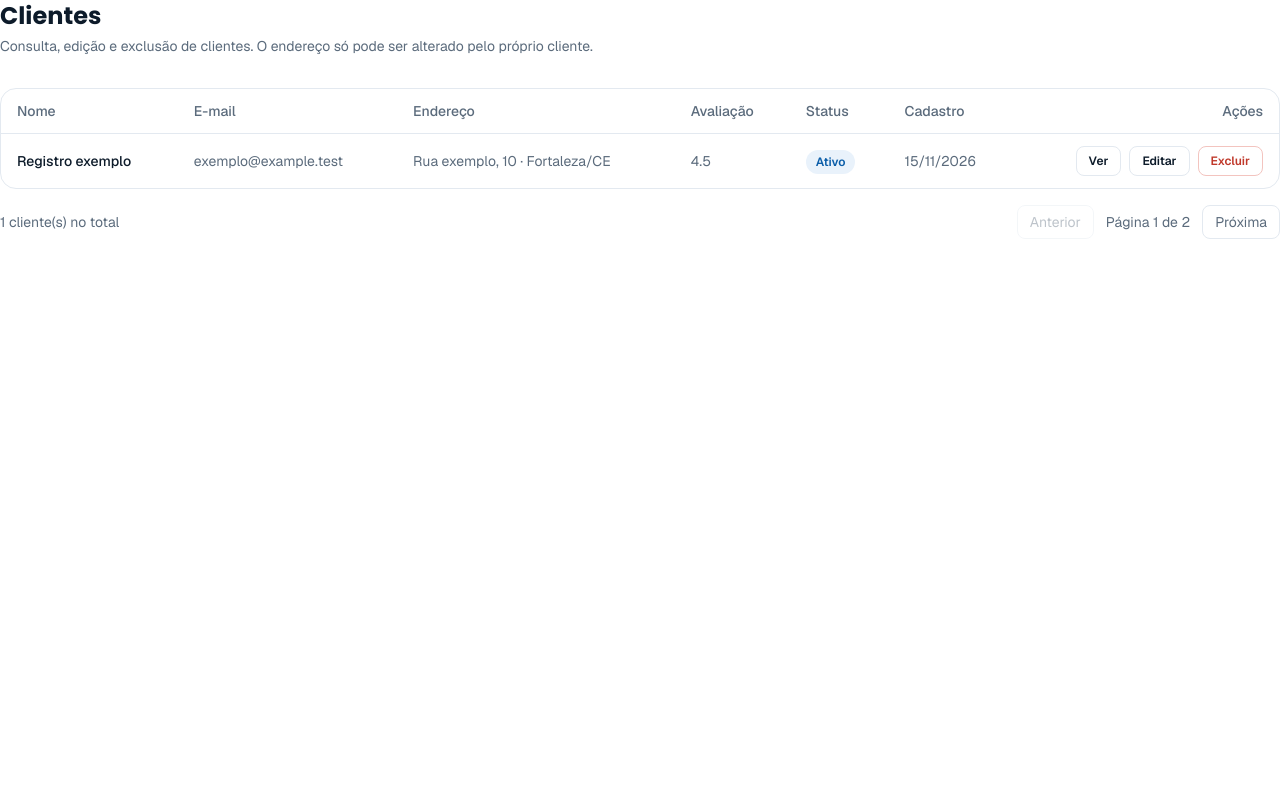
clients request lifecycle › clears an action error when paginating in either direction
Expected: the text "Registro exemplo" is shown, [1, 134, 178, 188]
Click the button "Excluir".
click(1230, 161)  # box [1198, 146, 1263, 176]
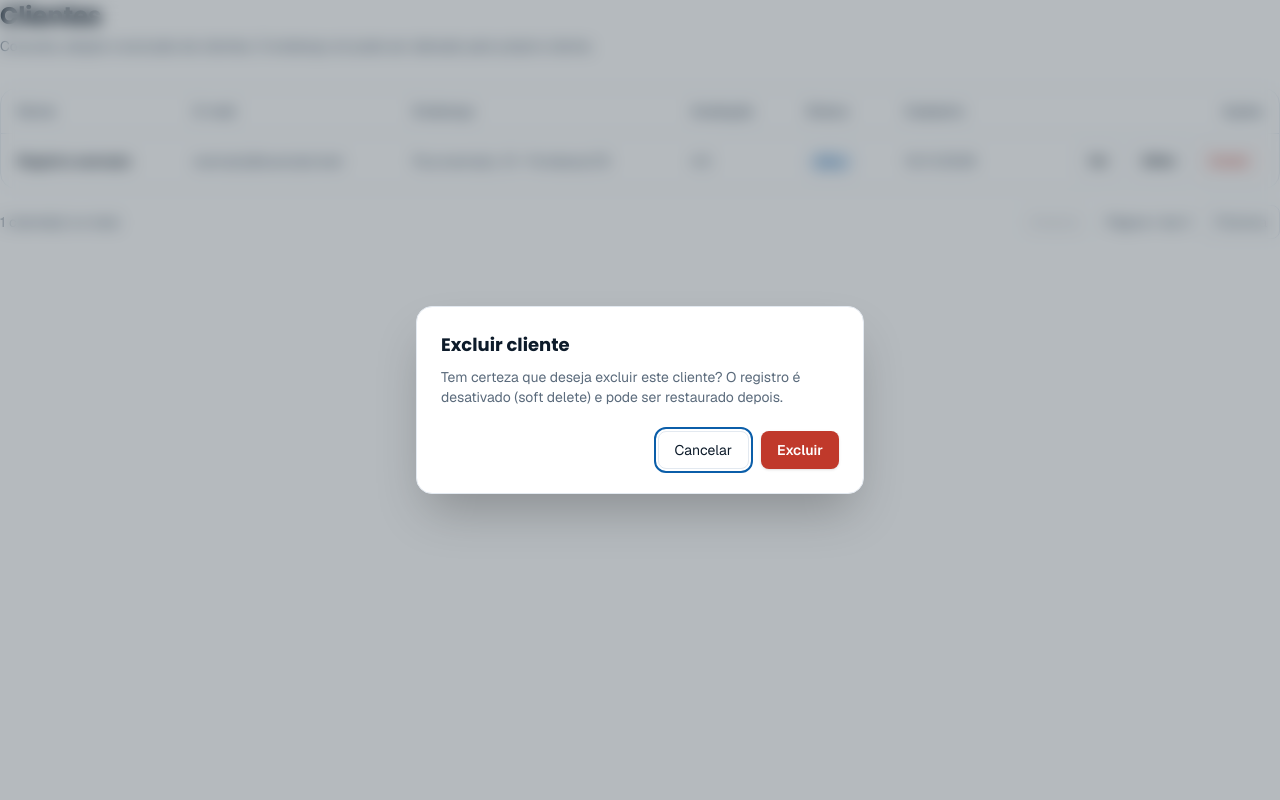
Click the button "Excluir".
click(800, 450)  # box [761, 431, 839, 469]
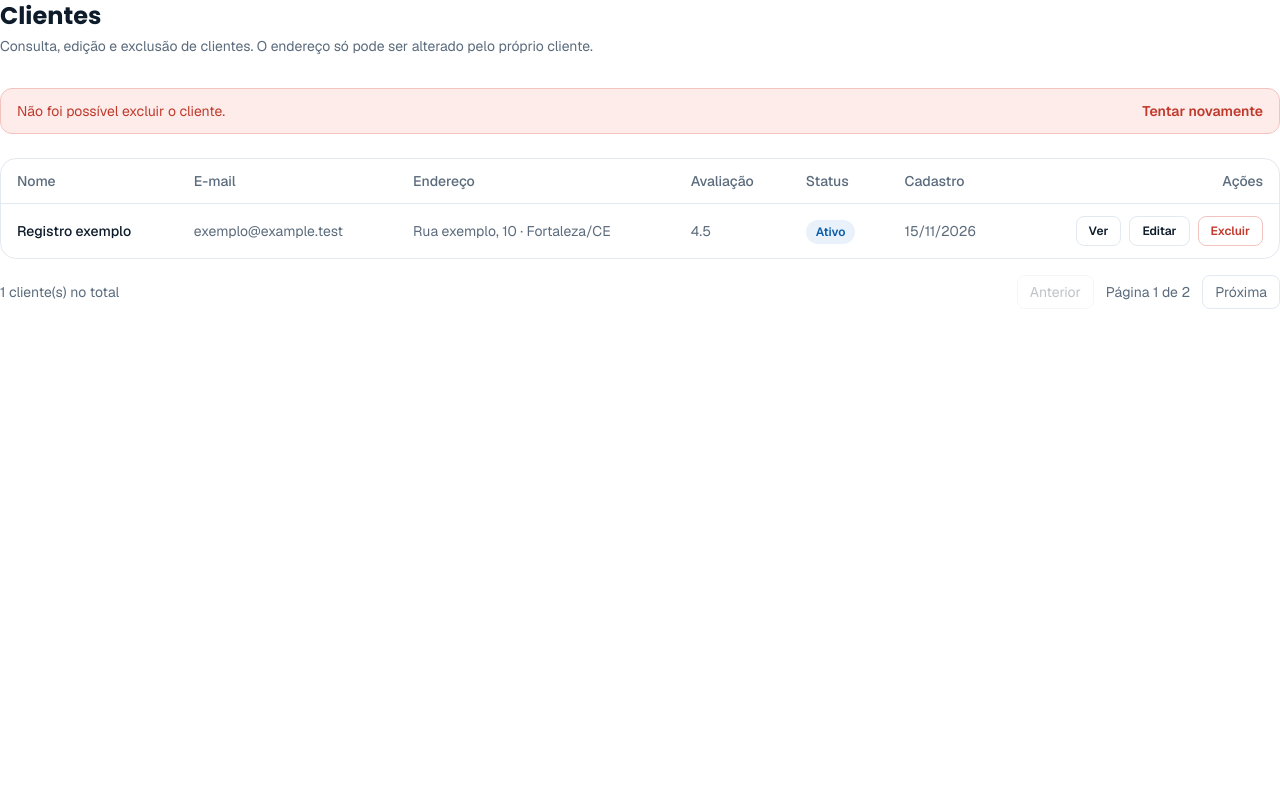
Expected: the text "Não foi possível excluir o cliente." is shown, [17, 101, 225, 121]
Click the button "Próxima".
click(1241, 292)  # box [1202, 275, 1279, 309]
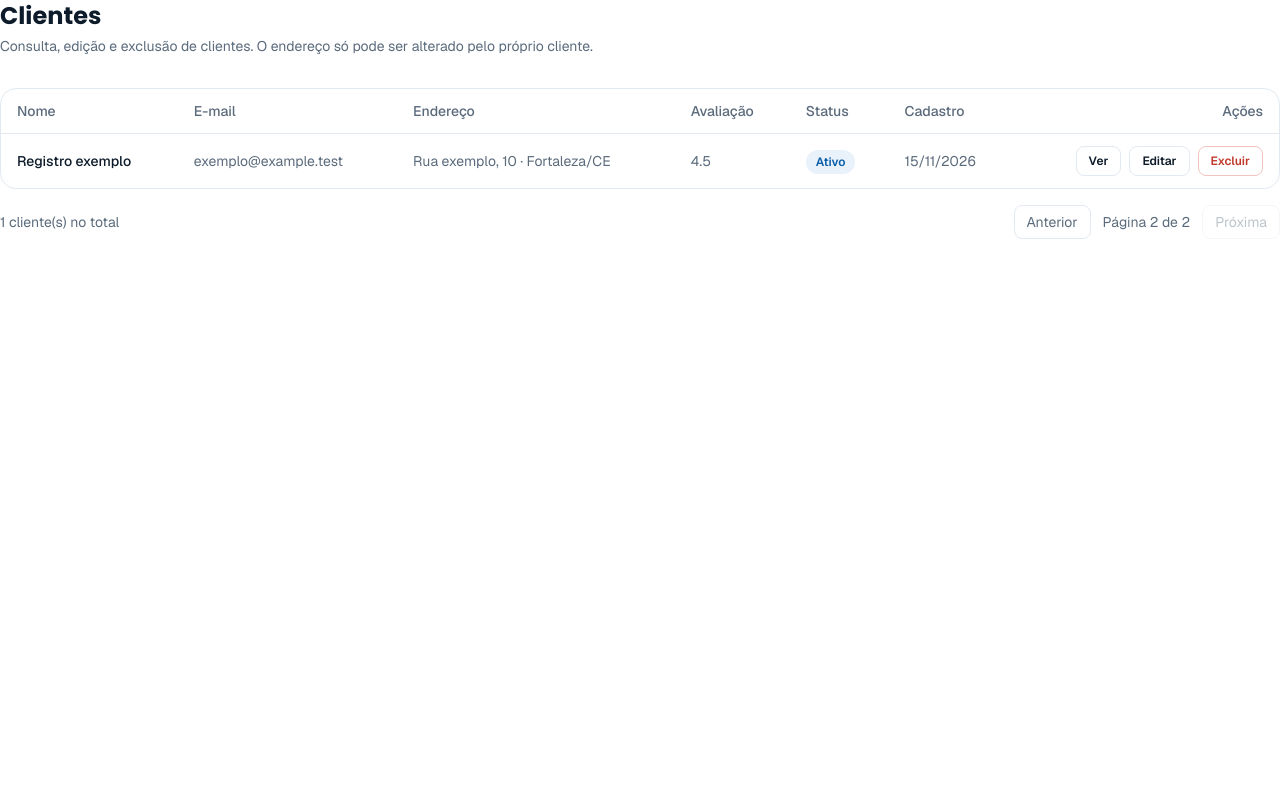
Expected: the text "Registro exemplo" is shown, [1, 134, 178, 188]
Expected: the text "Não foi possível excluir o cliente." is gone
Click the button "Excluir".
click(1230, 161)  # box [1198, 146, 1263, 176]
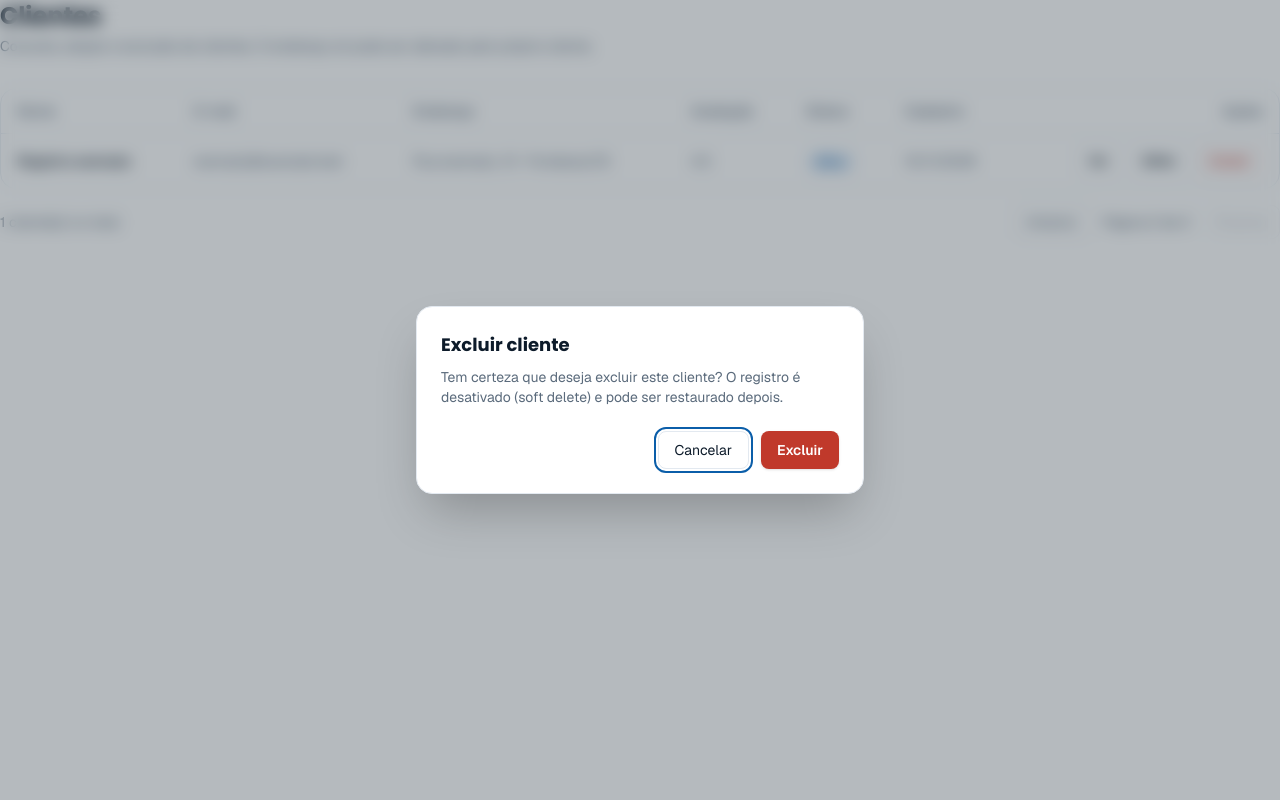
Click the button "Excluir".
click(800, 450)  # box [761, 431, 839, 469]
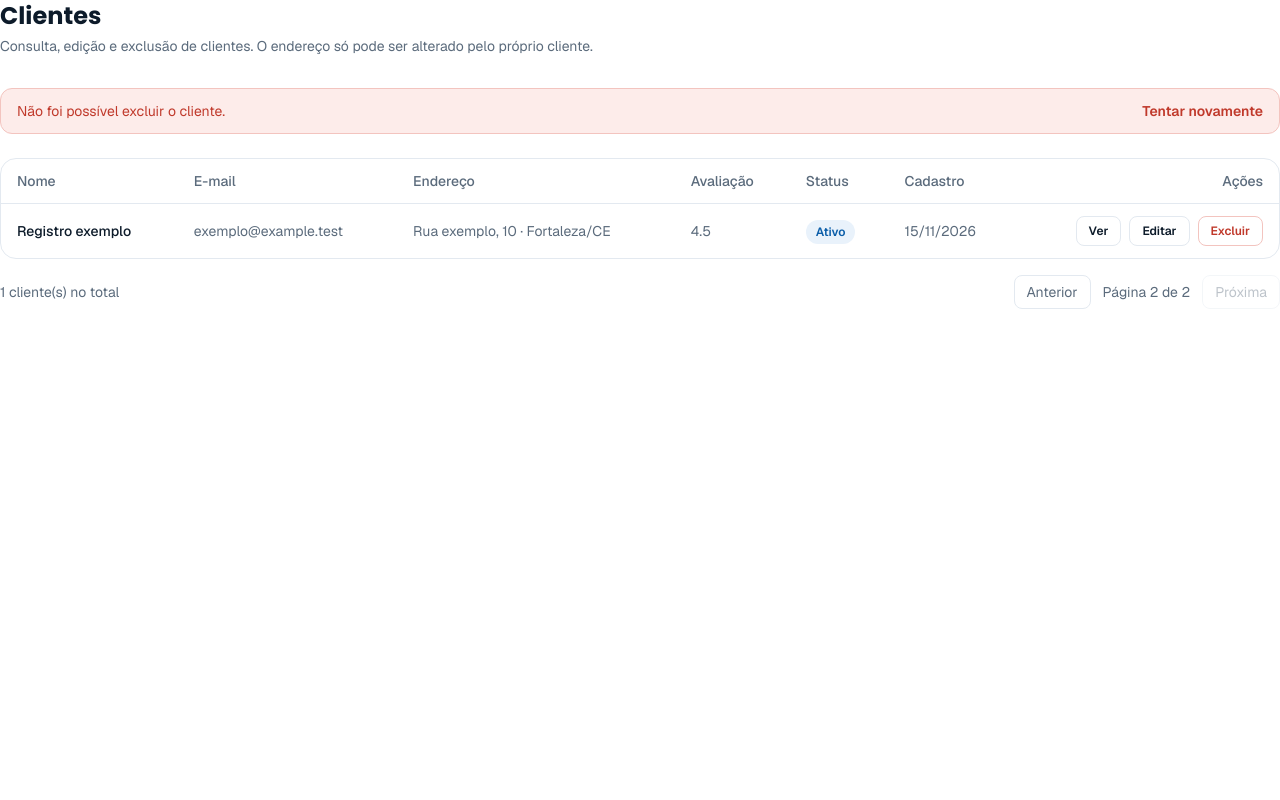
Expected: the text "Não foi possível excluir o cliente." is shown, [17, 101, 225, 121]
Click the button "Anterior".
click(1052, 292)  # box [1014, 275, 1090, 309]
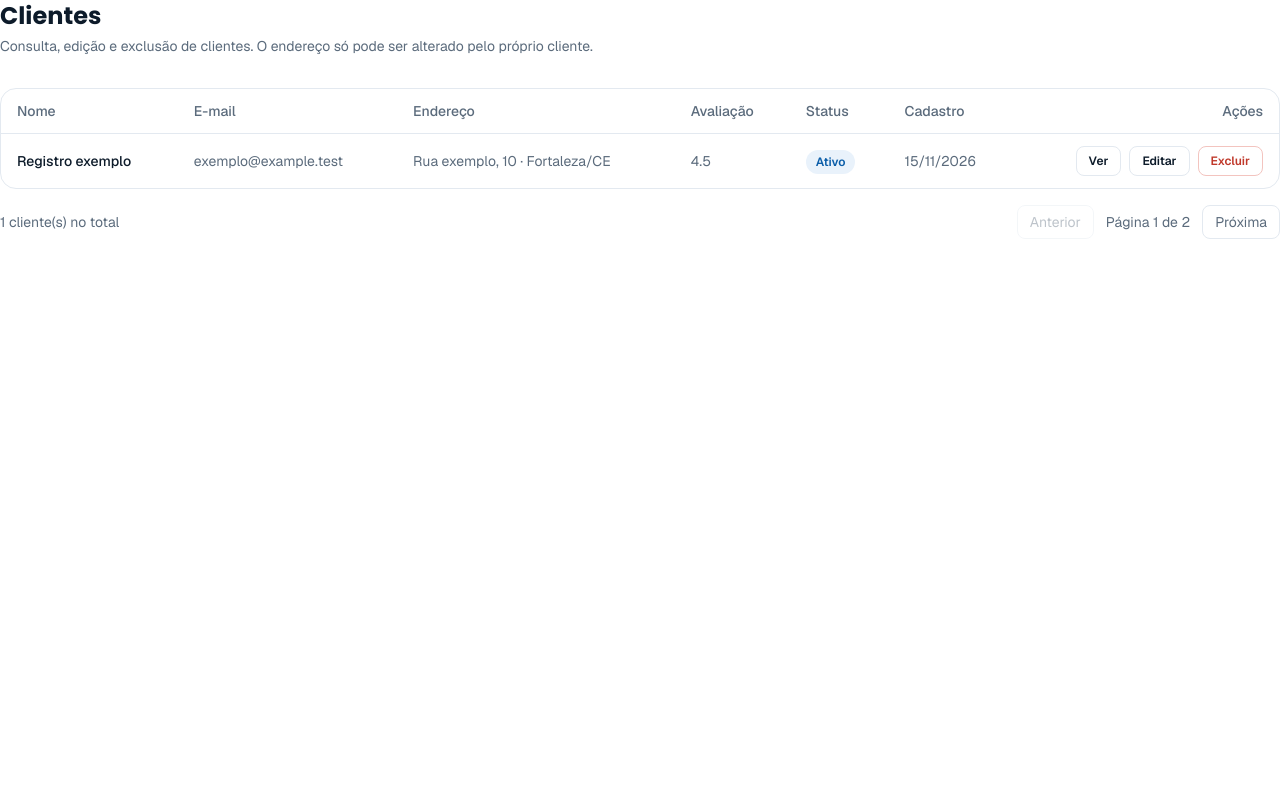
Expected: the text "Registro exemplo" is shown, [1, 134, 178, 188]
Expected: the text "Não foi possível excluir o cliente." is gone
